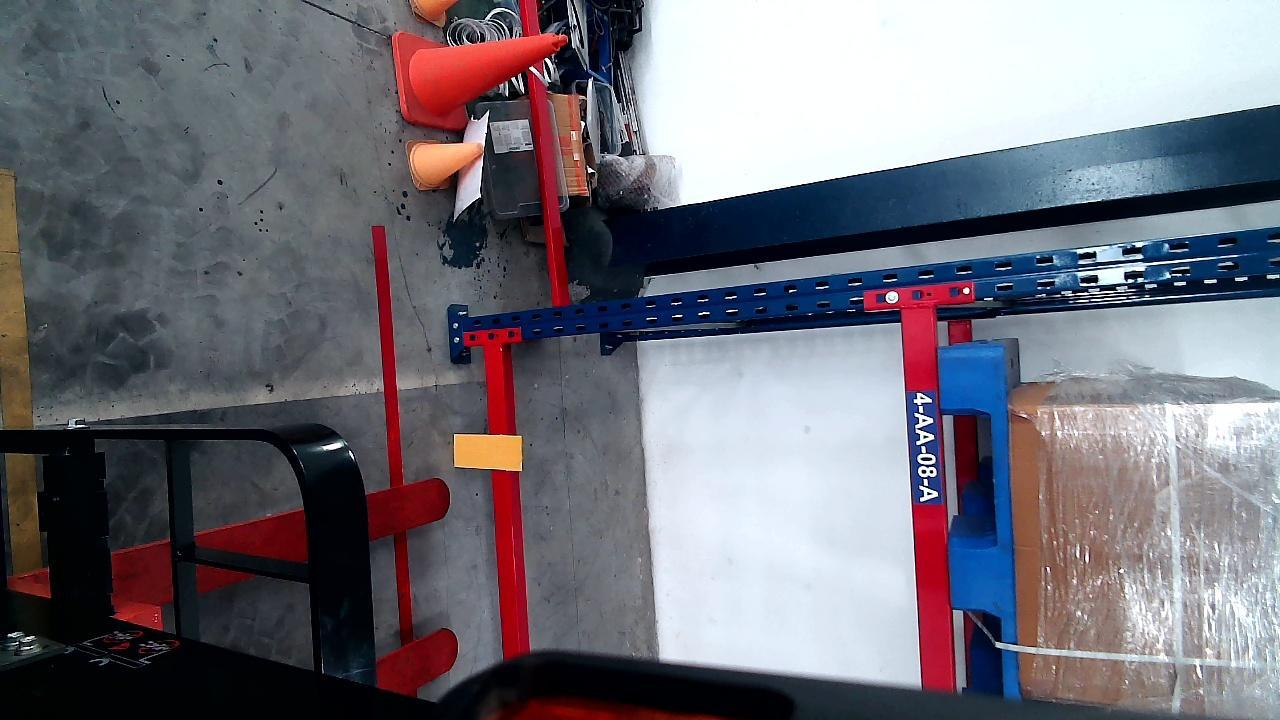red_line: (373, 218, 412, 644)
